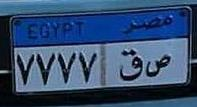7: (35, 49, 57, 86), (56, 51, 78, 87), (16, 53, 35, 88), (78, 51, 98, 84)
qaaf: (117, 46, 144, 82)
saad: (144, 53, 172, 80)
